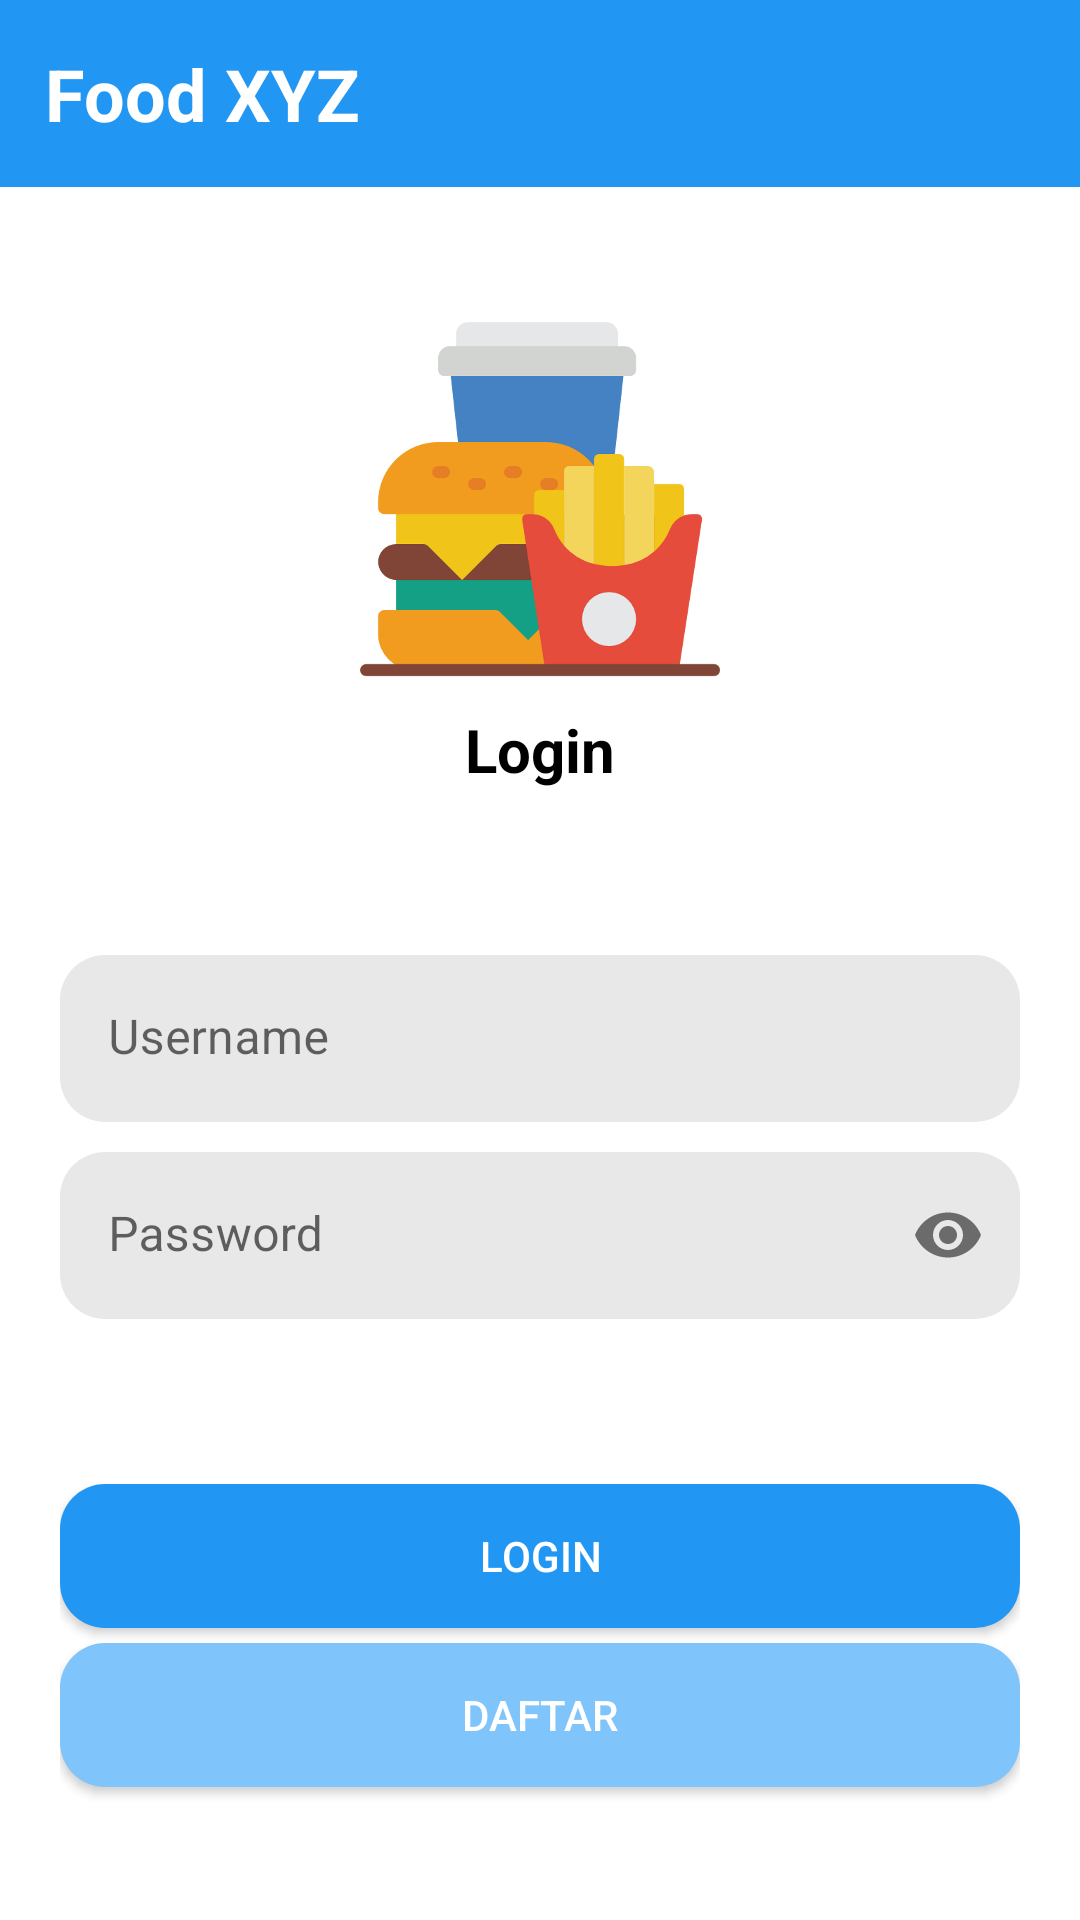

Named icons in this screenshot (1080x1920) and their centers, (x=x, y=y):
burger: (x=540, y=499)
